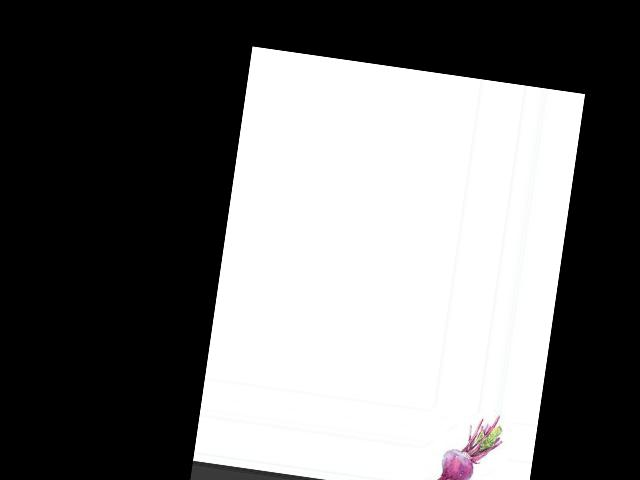beet: (419, 405, 506, 480)
